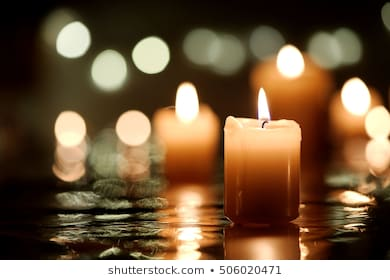Fire: (171, 79, 201, 121), (257, 84, 276, 126)
